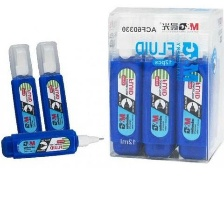correction_fluid: (108, 13, 144, 158), (175, 15, 210, 161), (144, 14, 176, 161), (0, 127, 106, 163), (7, 42, 44, 144), (35, 38, 71, 140)
plastic_box: (104, 3, 224, 166)
